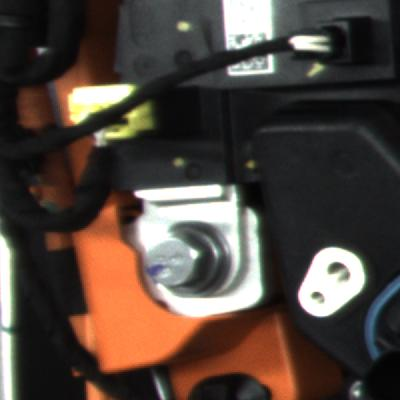nut_b: (148, 211, 242, 298)
